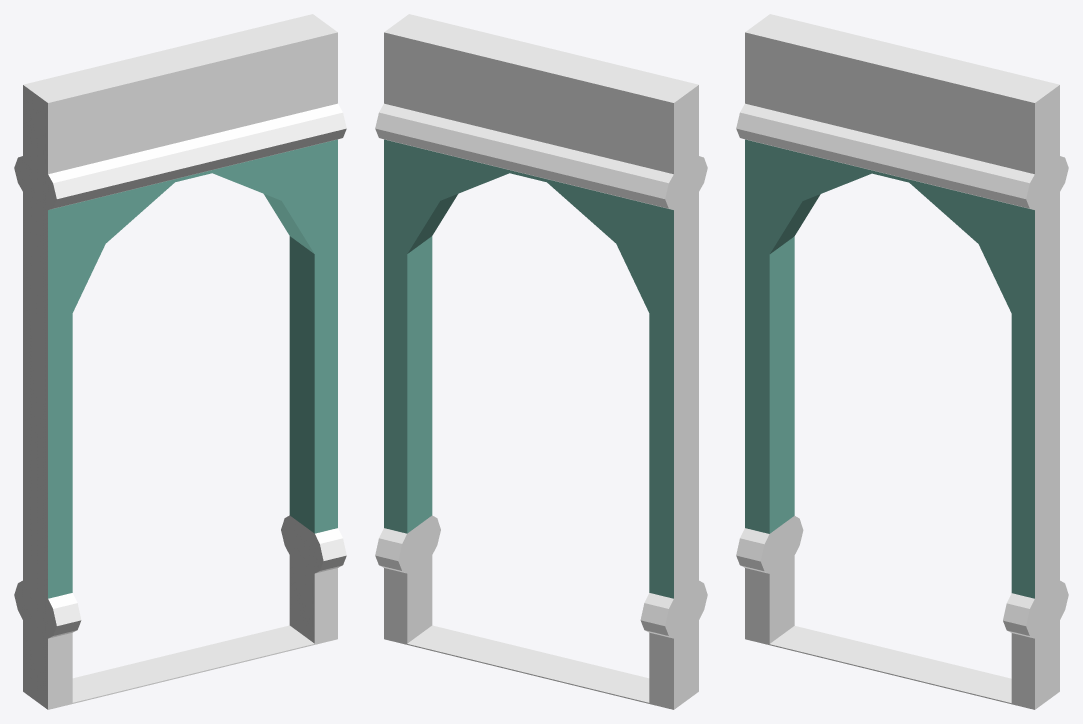
Rendered from FancyDoorframe.glb.
3 views of the same model, side by side, from view 1: azimuth 30°, elevation 25°; view 2: azimuth 150°, elevation 25°; view 3: azimuth 330°, elevation 25° (orthographic).
Parts seen in each view (by area): view 1: wall_strip_door; view 2: wall_strip_door; view 3: wall_strip_door.
Part boxes in pixels (bbox=[...]): wall_strip_door: bbox=[14, 14, 346, 709]; wall_strip_door: bbox=[375, 14, 707, 709]; wall_strip_door: bbox=[736, 14, 1068, 709].
Size of what is drawn, in the model's own units: 2 by 4 by 0.5109.
1 material, 1 textured.
